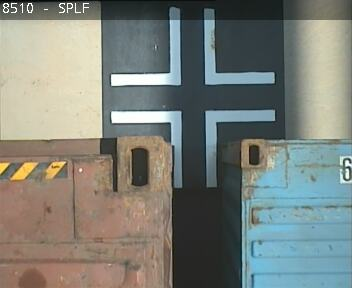groundmarker_1: (110, 8, 274, 87), (112, 107, 276, 186)
